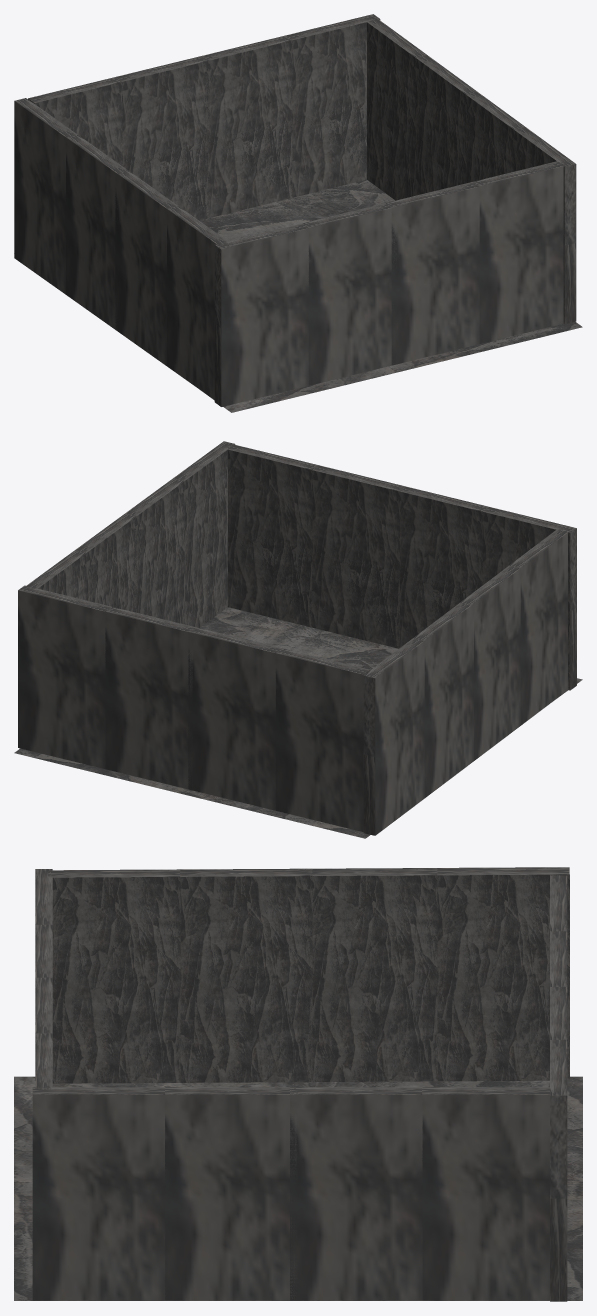
File: RoomComposit.fbx
3 views of the same model, one above another, from view 1: azimuth 30°, elevation 25°; view 2: azimuth 150°, elevation 25°; view 3: azimuth 270°, elevation 25° (orthographic). The views are drawn at different scales.
Parts seen in each view (by area): view 1: Wall.005, Wall.003, Wall.004, Wall.006, Plane; view 2: Wall.003, Wall.005, Wall.004, Wall.006, Plane; view 3: Wall.006, Wall.004, Plane, Wall.003, Wall.005.
Part boxes in pixels (bbox=[...]): Wall.005: bbox=[214, 161, 566, 406]; Wall.003: bbox=[28, 14, 380, 220]; Wall.004: bbox=[14, 98, 229, 399]; Wall.006: bbox=[366, 18, 576, 324]; Plane: bbox=[199, 179, 582, 412]; Wall.003: bbox=[18, 585, 370, 831]; Wall.005: bbox=[225, 444, 576, 690]; Wall.004: bbox=[363, 528, 567, 835]; Wall.006: bbox=[25, 441, 235, 627]; Plane: bbox=[14, 607, 582, 838]; Wall.006: bbox=[32, 1087, 554, 1300]; Wall.004: bbox=[47, 867, 569, 1083]; Plane: bbox=[14, 1076, 582, 1300]; Wall.003: bbox=[550, 875, 567, 1301]; Wall.005: bbox=[35, 869, 52, 1089].
Size of the model in its own units: 2312 by 974 by 2432.
